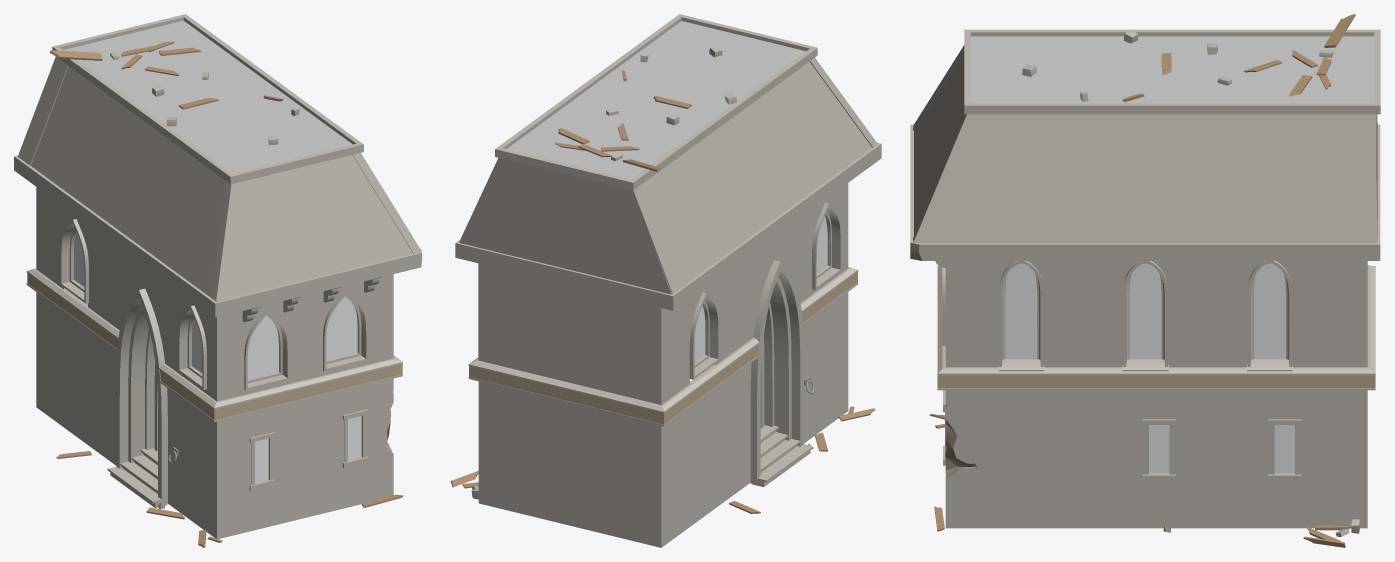
File: kb3d_bldg_md_e.glb
3 renders of one model, left to right at view 1: azimuth 30°, elevation 25°; view 2: azimuth 150°, elevation 25°; view 3: azimuth 270°, elevation 25°, orthographic. The views are drawn at different scales.
Visible parts, largest first — view 1: EXPORT_kb3d_bldg_md_e; view 2: EXPORT_kb3d_bldg_md_e; view 3: EXPORT_kb3d_bldg_md_e.
Boxes of the visible parts, x1,y1,x2,y2 form: EXPORT_kb3d_bldg_md_e: [14, 14, 421, 547]; EXPORT_kb3d_bldg_md_e: [450, 14, 881, 547]; EXPORT_kb3d_bldg_md_e: [910, 14, 1380, 547].
Size of the model in its own units: 6.15 by 8.41 by 8.51.
